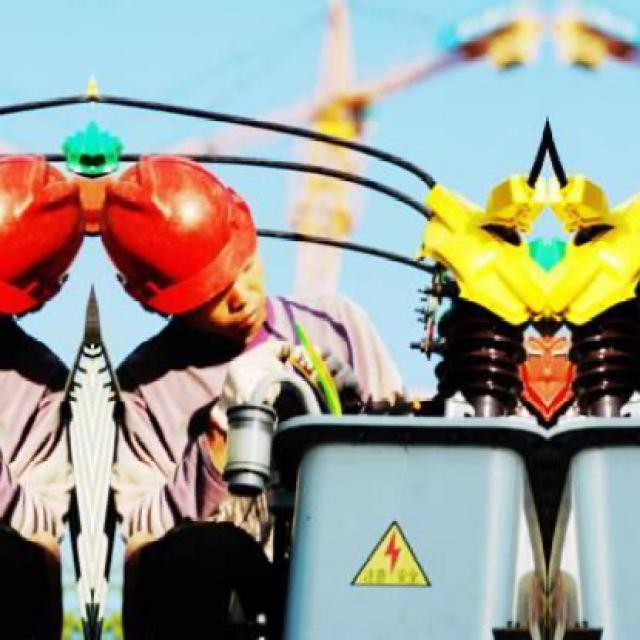helmet: (100, 141, 281, 334), (0, 140, 86, 334)
